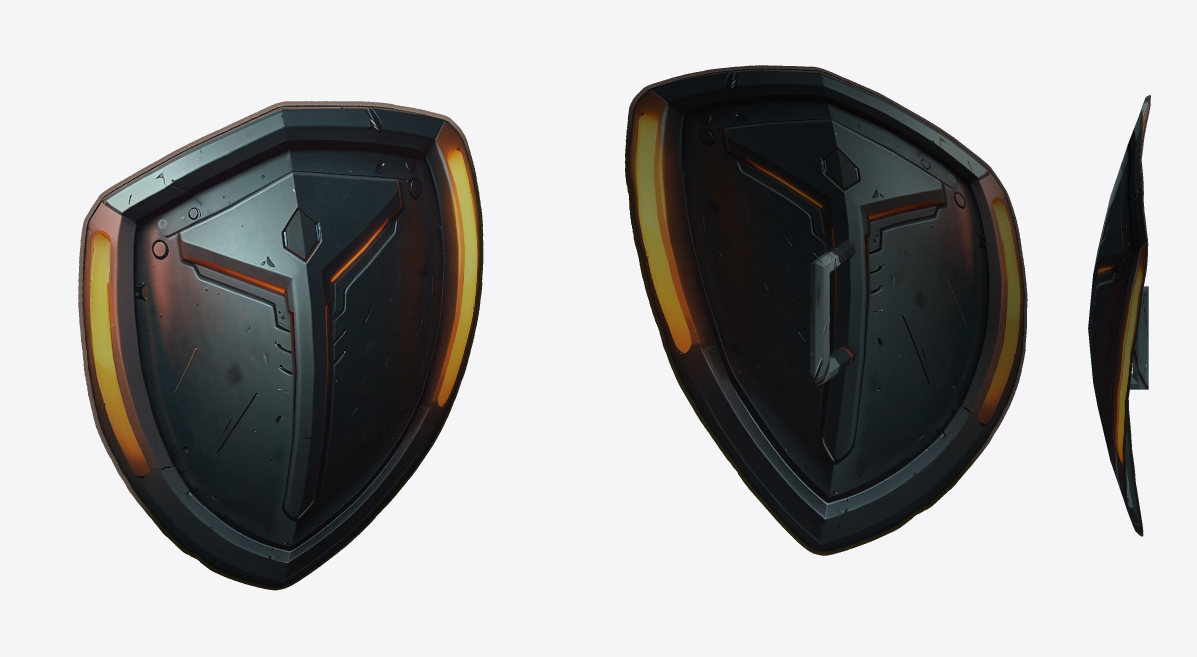
Rendered from Shield.fbx.
The picture shows the model from 3 angles, left to right: view 1: azimuth 30°, elevation 25°; view 2: azimuth 150°, elevation 25°; view 3: azimuth 270°, elevation 25°; orthographic projection. The views are drawn at different scales.
Parts seen in each view (by area): view 1: Shield; view 2: Shield; view 3: Shield.
Boxes of the visible parts, x1=… form: Shield: x1=78, y1=101, x2=483, y2=590; Shield: x1=625, y1=65, x2=1027, y2=555; Shield: x1=1088, y1=95, x2=1150, y2=536.
Size of the model in its own units: 164 by 32.91 by 164.
1 material, 1 textured.
